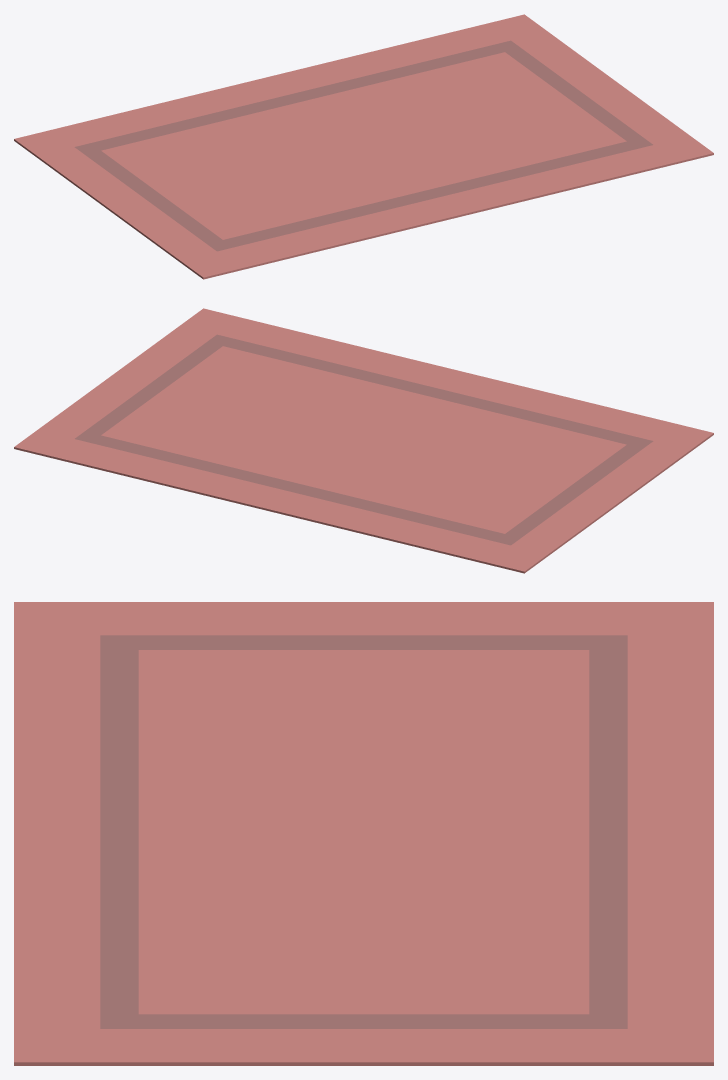
Rendered from rug.glb.
3 views of the same model, one above another, from view 1: azimuth 30°, elevation 25°; view 2: azimuth 150°, elevation 25°; view 3: azimuth 270°, elevation 25° (orthographic). The views are drawn at different scales.
Parts seen in each view (by area): view 1: rugRectangle(Clone); view 2: rugRectangle(Clone); view 3: rugRectangle(Clone).
Part boxes in pixels (<box>): rugRectangle(Clone): <box>14,14,713,279</box>; rugRectangle(Clone): <box>14,308,713,573</box>; rugRectangle(Clone): <box>14,602,713,1065</box>.
Bounding box in the file's own units: 2.8 × 0.01 × 1.8.
